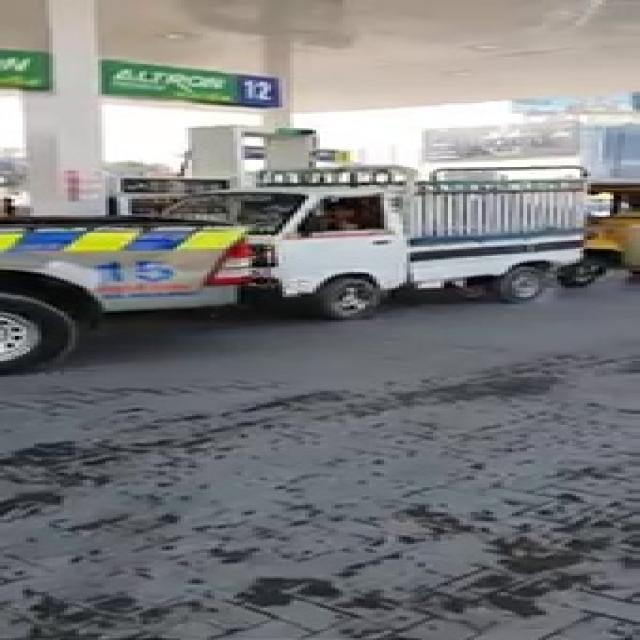police: (0, 194, 353, 411)
